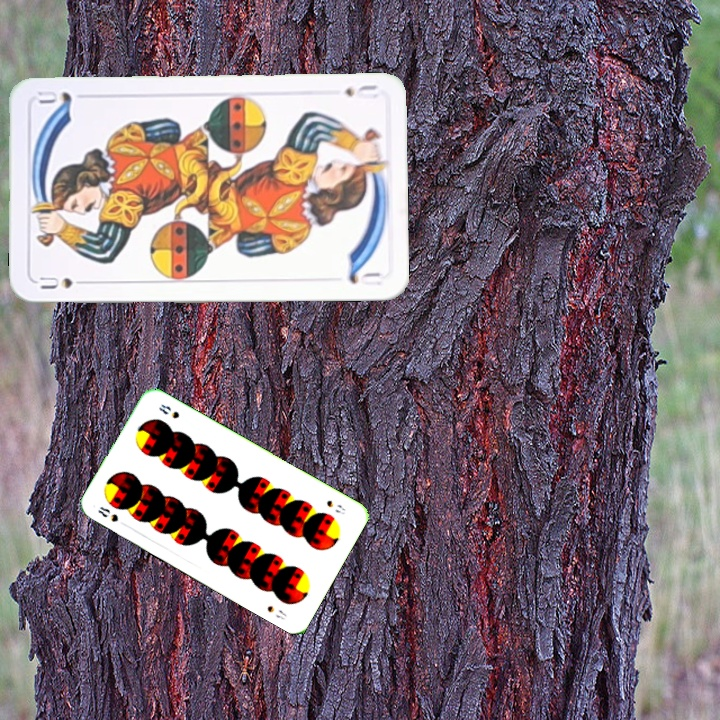S8: (94, 502, 121, 525), (322, 496, 348, 517)
SU: (36, 272, 93, 292), (340, 80, 380, 102)
